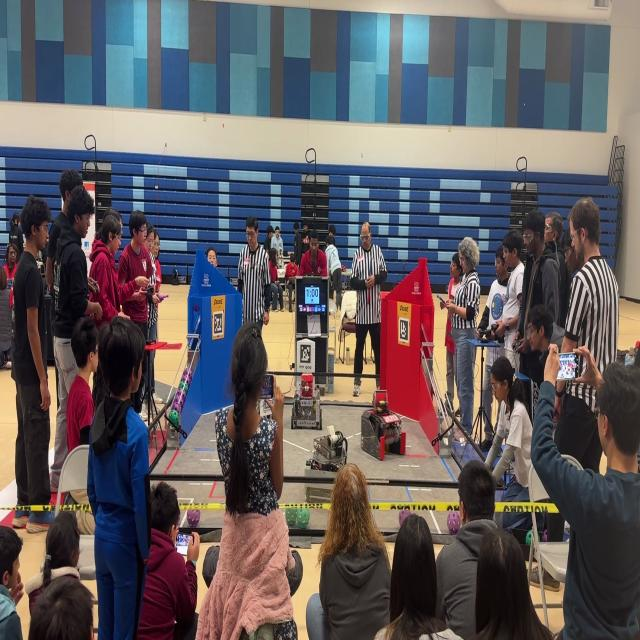artifact_green: (285, 507, 297, 527), (297, 508, 309, 528), (168, 409, 179, 427), (181, 368, 192, 383), (178, 381, 188, 392), (526, 530, 532, 546), (181, 370, 188, 381), (537, 533, 541, 542)
artifact_purple: (447, 511, 460, 535), (173, 389, 185, 412), (187, 510, 200, 527), (399, 509, 411, 526), (181, 368, 192, 384), (185, 369, 193, 384), (181, 370, 188, 381), (542, 530, 547, 542)
